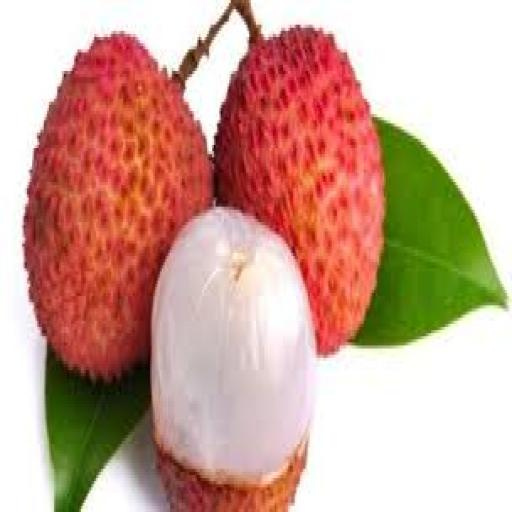lychee: (23, 34, 211, 379), (213, 28, 383, 354), (151, 207, 315, 511)
